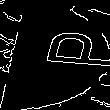P_W: (6, 33, 104, 77)
